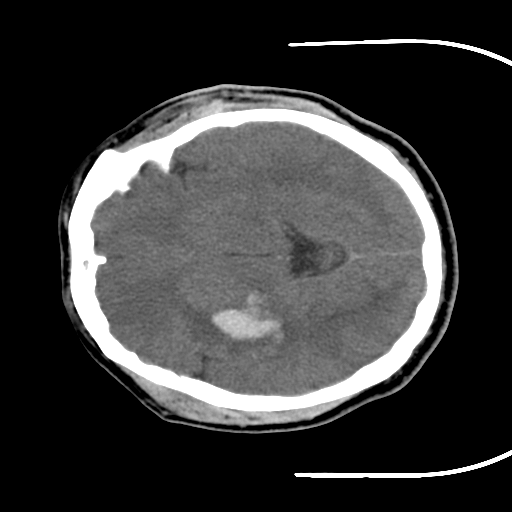a: (166, 270, 313, 368)
